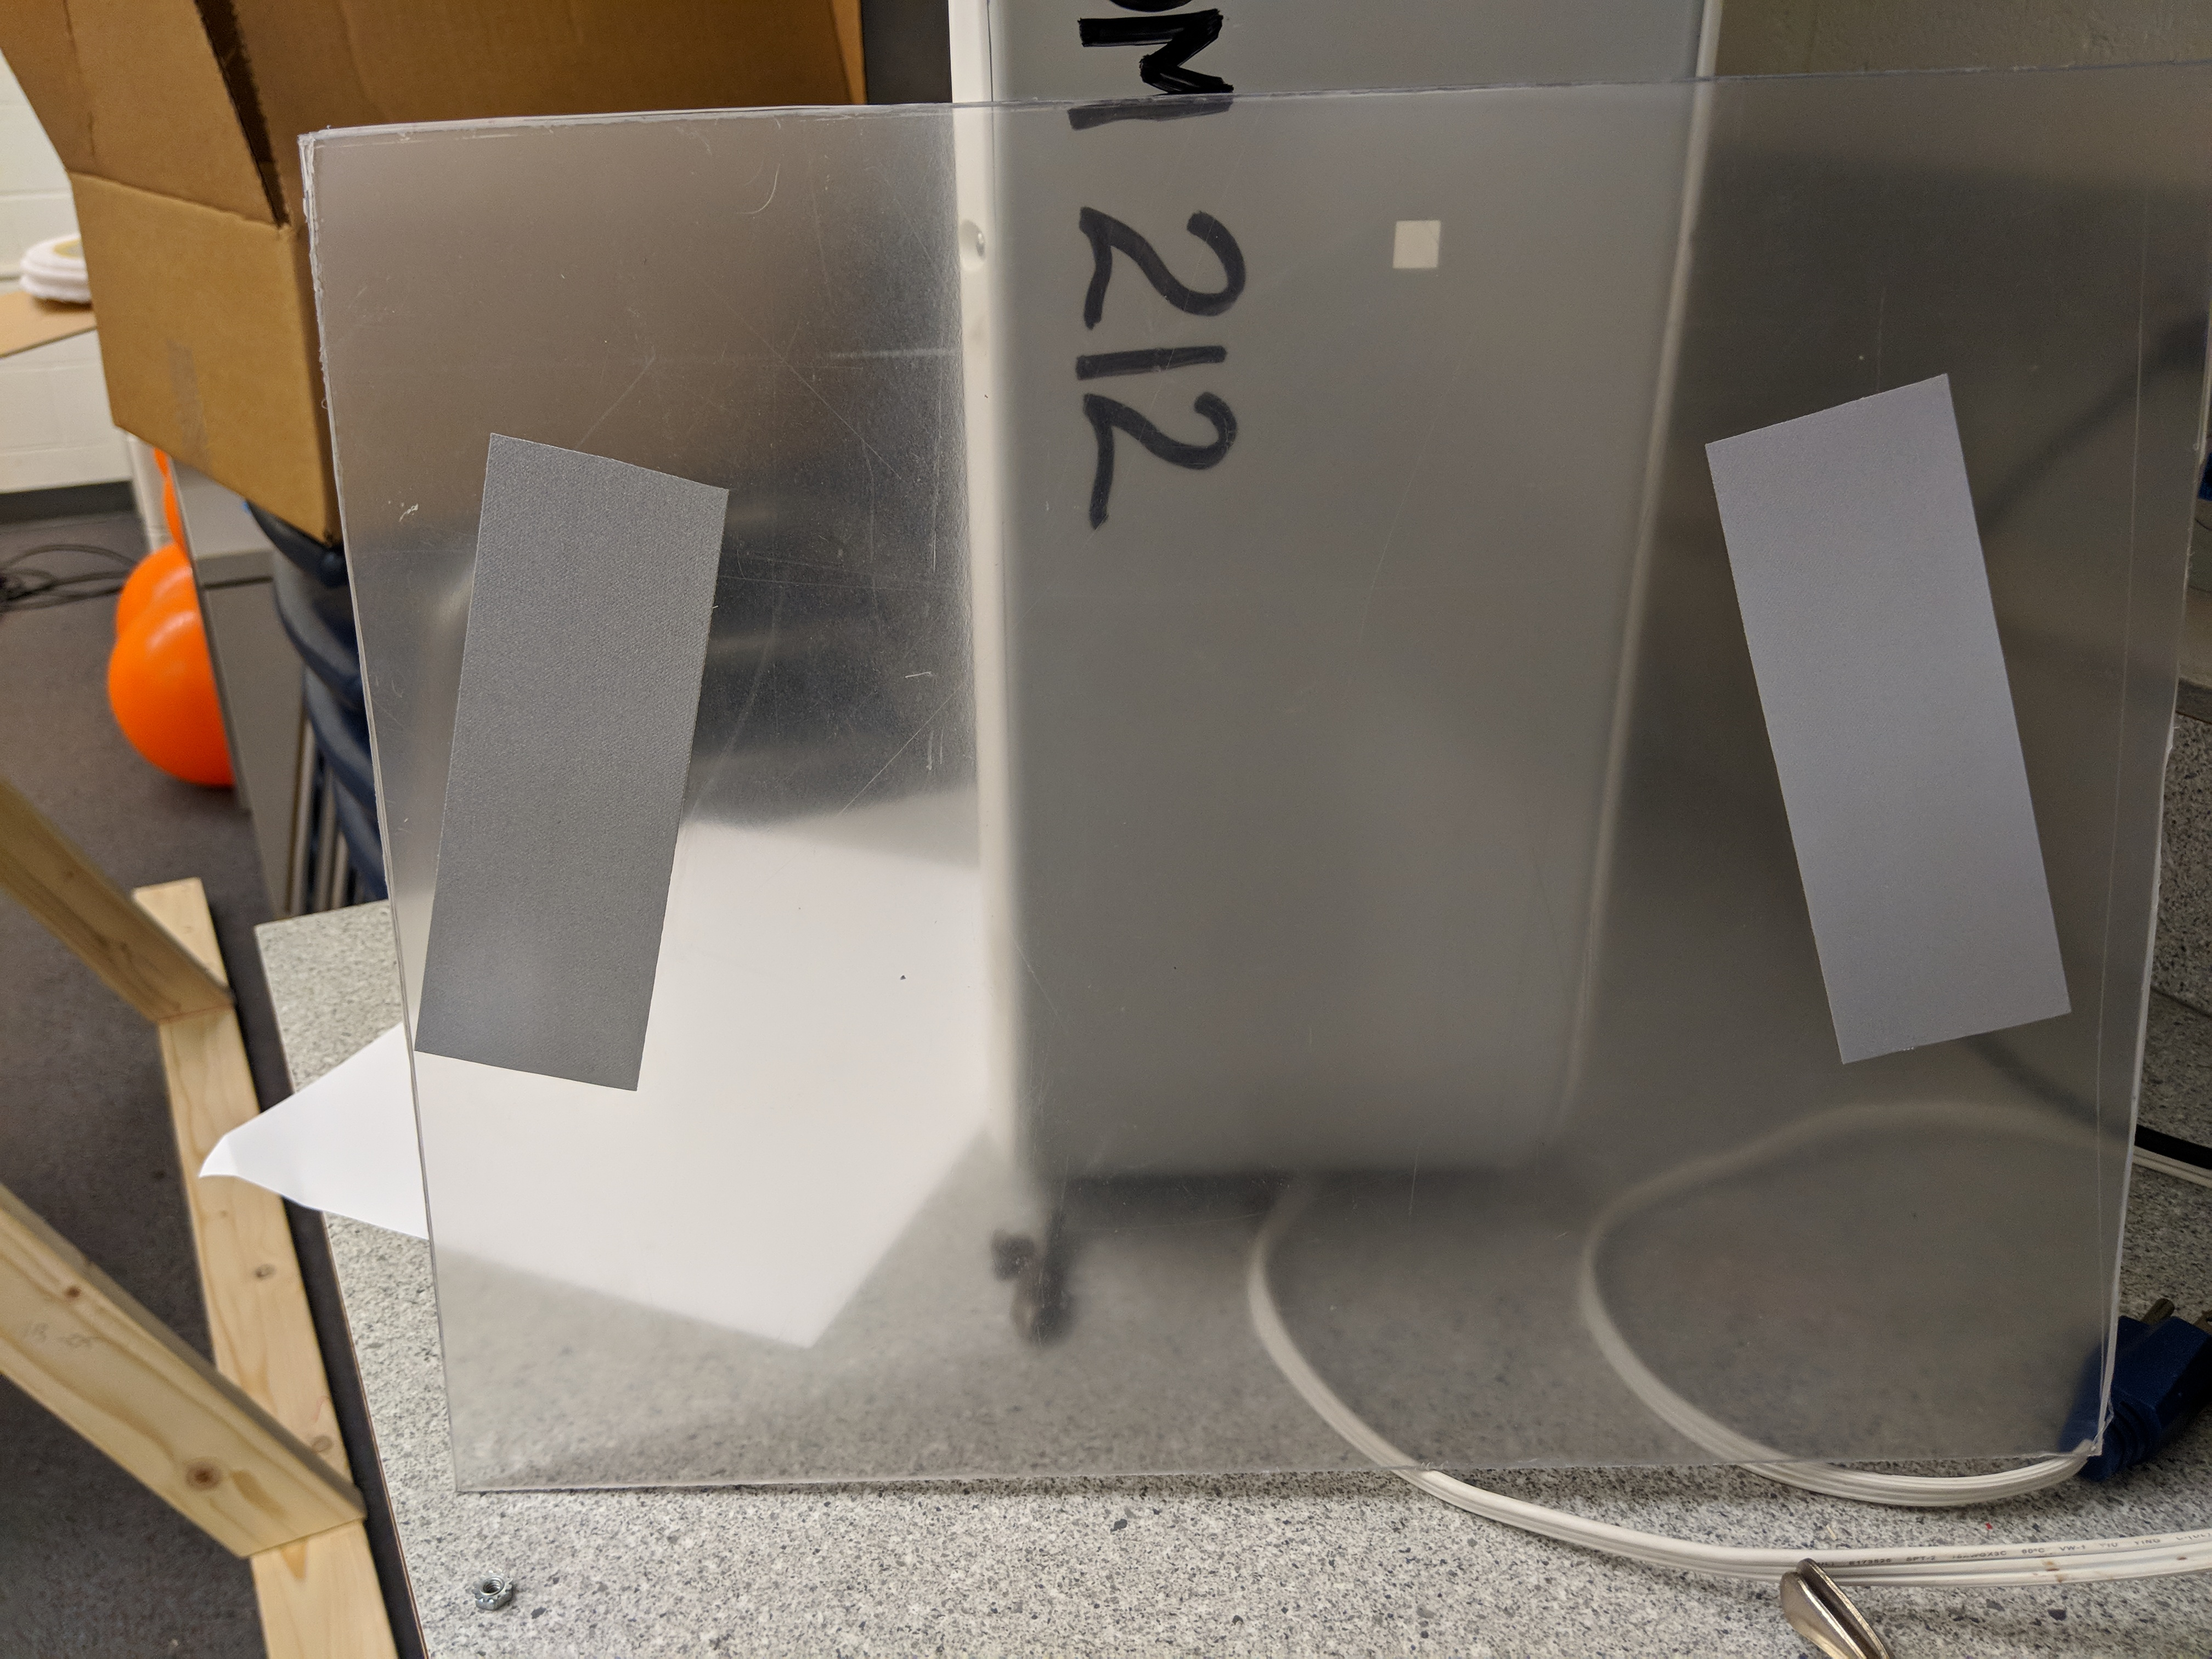vision_target: (406, 359, 2081, 1075)
